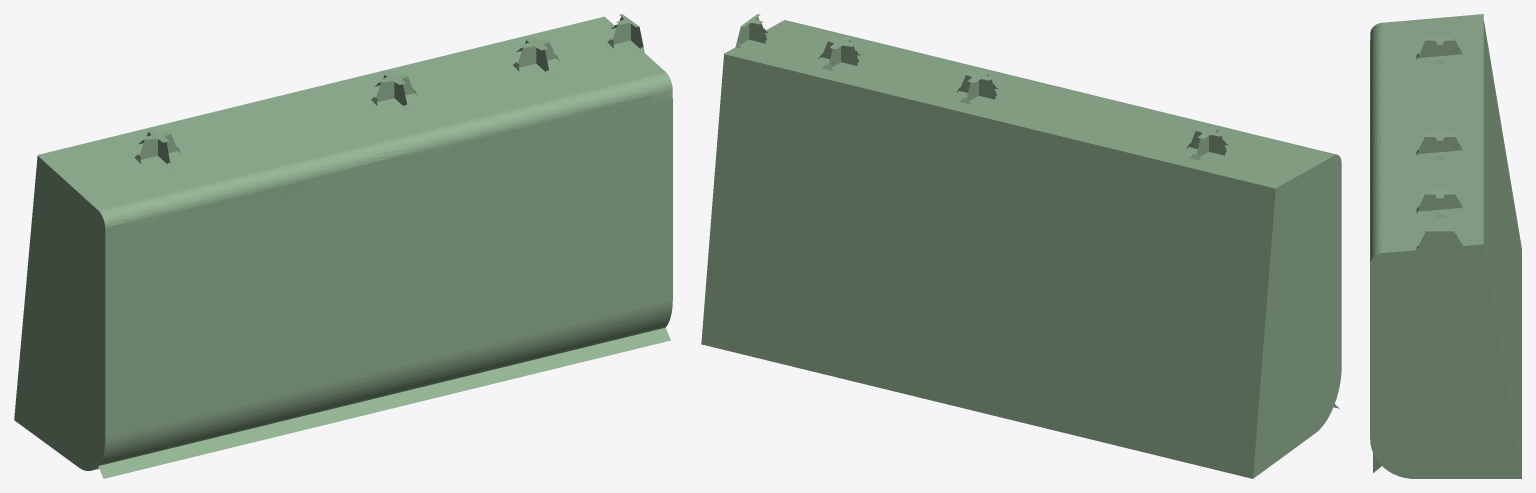
File: NO_3_WING_CARGO_OIL_TK_SB.glb
3 renders of one model, left to right at view 1: azimuth 30°, elevation 25°; view 2: azimuth 150°, elevation 25°; view 3: azimuth 270°, elevation 25°, orthographic. The views are drawn at different scales.
Parts seen in each view (by area): view 1: PL_OuterShellxNo3SideTankS_025001-19_NVA32_1993, PL_OuterShellxNo3SideTankS_081003-19_NVA32_1993, PL_OuterShellxNo3SideTankS_081001-19_NVA32_1993, PL_OuterShellxNo3SideTankS_025004-19_NVA32_1993, PL_OuterShellxNo3SideTankS_081004-19_NVA32_1993, PL_OuterShellxNo3SideTankS_025002-19_NVA32_1993, PL_OuterShellxNo3SideTankS_002002-19_NVA32_1993, PL_OuterShellxNo3SideTankS_025005-19_NVA32_1993, PL_OuterShellxNo3SideTankS_074002-20_NVD36_1993, PL_OuterShellxNo3SideTankS_068004-19_NVA32_1993, PL_SideTransBHDxBHD69S_004001-18.5_NVA32_1993, PL_OuterShellxNo3SideTankS_068002-19_NVA32_1993 (+112 smaller); view 2: PL_LBHDxNo4CenterTankS_009001-19.5_NVA36_1993, PL_LBHDxNo3CenterTankS_021002-19.5_NVA36_1993, PL_LBHDxNo4CenterTankS_010001-17.5_NVA32_1993, PL_LBHDxNo3CenterTankS_021001-19.5_NVA36_1993, PL_LBHDxNo3CenterTankS_025002-15_NVA32_1993, PL_LBHDxNo4CenterTankS_009004-19.5_NVA36_1993, PL_LBHDxNo3CenterTankS_025001-15_NVA32_1993, PL_LBHDxNo4CenterTankS_018003-17.5_NVA36_1993, PL_LBHDxNo3CenterTankS_022002-17.5_NVA32_1993, PL_LBHDxNo4CenterTankS_011005-17_NVA32_1993, PL_LBHDxNo4CenterTankS_013002-15_NVA32_1993, PL_LBHDxNo3CenterTankS_022001-17.5_NVA32_1993 (+108 smaller); view 3: PL_SideTransBHDxBHD81S_004001-18.5_NVA32_1993, PL_SideTransBHDxBHD81S_001002-19.5_NVA32_1993, PL_SideTransBHDxBHD81S_002001-19.5_NVA32_1993, PL_SideTransBHDxBHD81S_003002-18.5_NVA32_1993, PL_SideTransBHDxBHD81S_005002-17_NVA32_1993, PL_SideTransBHDxBHD81S_014002-13.5_NVA_1993, PL_SideTransBHDxBHD81S_015001-13.5_NVA_1993, PL_SideTransBHDxBHD81S_010001-14.5_NVA32_1993, PL_SideTransBHDxBHD81S_006001-17_NVA32_1993, PL_SideTransBHDxBHD81S_009002-14.5_NVA32_1993, PL_SideTransBHDxBHD81S_009001-14.5_NVA32_1993, PL_SideTransBHDxBHD81S_005001-17_NVA32_1993 (+82 smaller).
Boxes of the visible parts, x1,y1,x2,y2 form: PL_OuterShellxNo3SideTankS_025001-19_NVA32_1993: (171, 281, 225, 329); PL_OuterShellxNo3SideTankS_081003-19_NVA32_1993: (457, 212, 509, 259); PL_OuterShellxNo3SideTankS_081001-19_NVA32_1993: (406, 224, 457, 272); PL_OuterShellxNo3SideTankS_025004-19_NVA32_1993: (273, 257, 322, 304); PL_OuterShellxNo3SideTankS_081004-19_NVA32_1993: (509, 200, 556, 247); PL_OuterShellxNo3SideTankS_025002-19_NVA32_1993: (226, 269, 272, 316); PL_OuterShellxNo3SideTankS_002002-19_NVA32_1993: (171, 352, 225, 395); PL_OuterShellxNo3SideTankS_025005-19_NVA32_1993: (323, 246, 368, 292); PL_OuterShellxNo3SideTankS_074002-20_NVD36_1993: (451, 112, 509, 152); PL_OuterShellxNo3SideTankS_068004-19_NVA32_1993: (457, 283, 509, 325); PL_SideTransBHDxBHD69S_004001-18.5_NVA32_1993: (59, 385, 105, 449); PL_OuterShellxNo3SideTankS_068002-19_NVA32_1993: (406, 296, 457, 337); PL_LBHDxNo4CenterTankS_009001-19.5_NVA36_1993: (1135, 414, 1191, 463); PL_LBHDxNo3CenterTankS_021002-19.5_NVA36_1993: (860, 346, 913, 395); PL_LBHDxNo4CenterTankS_010001-17.5_NVA32_1993: (1138, 379, 1194, 426); PL_LBHDxNo3CenterTankS_021001-19.5_NVA36_1993: (910, 359, 962, 407); PL_LBHDxNo3CenterTankS_025002-15_NVA32_1993: (871, 200, 924, 247); PL_LBHDxNo4CenterTankS_009004-19.5_NVA36_1993: (1041, 391, 1092, 438); PL_LBHDxNo3CenterTankS_025001-15_NVA32_1993: (922, 212, 974, 259); PL_LBHDxNo4CenterTankS_018003-17.5_NVA36_1993: (1156, 160, 1211, 205); PL_LBHDxNo3CenterTankS_022002-17.5_NVA32_1993: (863, 312, 915, 358); PL_LBHDxNo4CenterTankS_011005-17_NVA32_1993: (1141, 339, 1197, 385); PL_LBHDxNo4CenterTankS_013002-15_NVA32_1993: (1053, 244, 1104, 291); PL_LBHDxNo3CenterTankS_022001-17.5_NVA32_1993: (913, 324, 965, 370); PL_SideTransBHDxBHD81S_004001-18.5_NVA32_1993: (1370, 421, 1445, 448); PL_SideTransBHDxBHD81S_001002-19.5_NVA32_1993: (1456, 449, 1521, 478); PL_SideTransBHDxBHD81S_002001-19.5_NVA32_1993: (1372, 449, 1445, 478); PL_SideTransBHDxBHD81S_003002-18.5_NVA32_1993: (1456, 421, 1516, 448); PL_SideTransBHDxBHD81S_005002-17_NVA32_1993: (1456, 389, 1511, 415); PL_SideTransBHDxBHD81S_014002-13.5_NVA_1993: (1370, 280, 1431, 301); PL_SideTransBHDxBHD81S_015001-13.5_NVA_1993: (1370, 249, 1431, 272); PL_SideTransBHDxBHD81S_010001-14.5_NVA32_1993: (1370, 332, 1416, 359); PL_SideTransBHDxBHD81S_006001-17_NVA32_1993: (1370, 389, 1416, 415); PL_SideTransBHDxBHD81S_009002-14.5_NVA32_1993: (1456, 332, 1501, 359); PL_SideTransBHDxBHD81S_009001-14.5_NVA32_1993: (1416, 332, 1456, 359); PL_SideTransBHDxBHD81S_005001-17_NVA32_1993: (1416, 389, 1456, 415).
Size of the model in its own units: 62.88 by 31.5 by 17.51.
